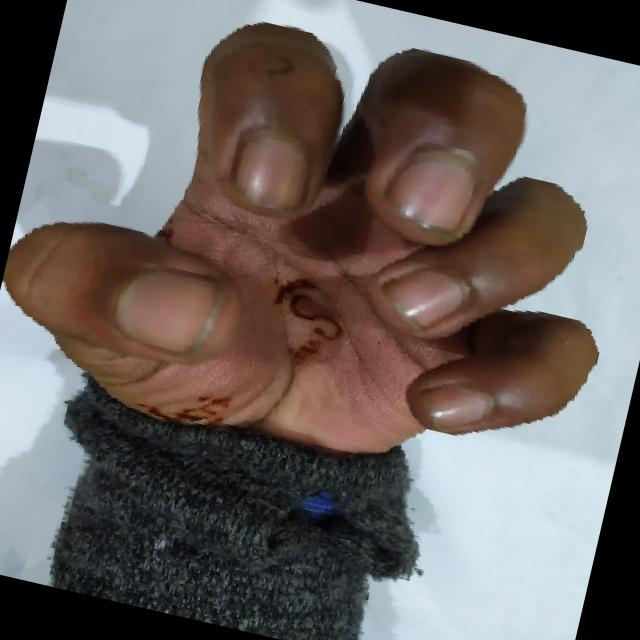Nail: (114, 269, 221, 354), (388, 148, 474, 235), (233, 128, 308, 211), (382, 269, 469, 335), (420, 383, 494, 432)
